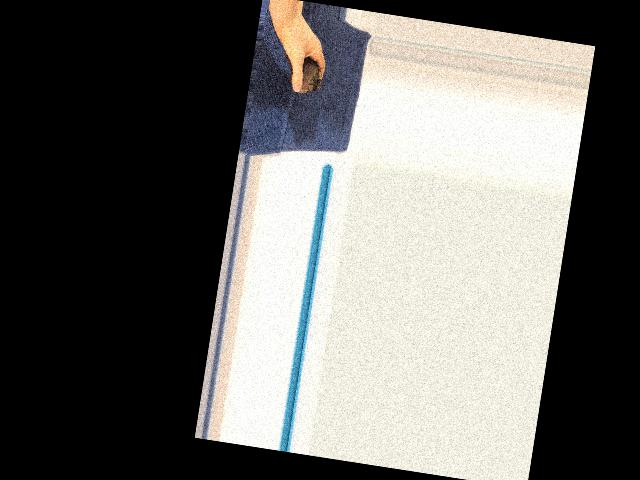beet: (276, 53, 324, 96)
